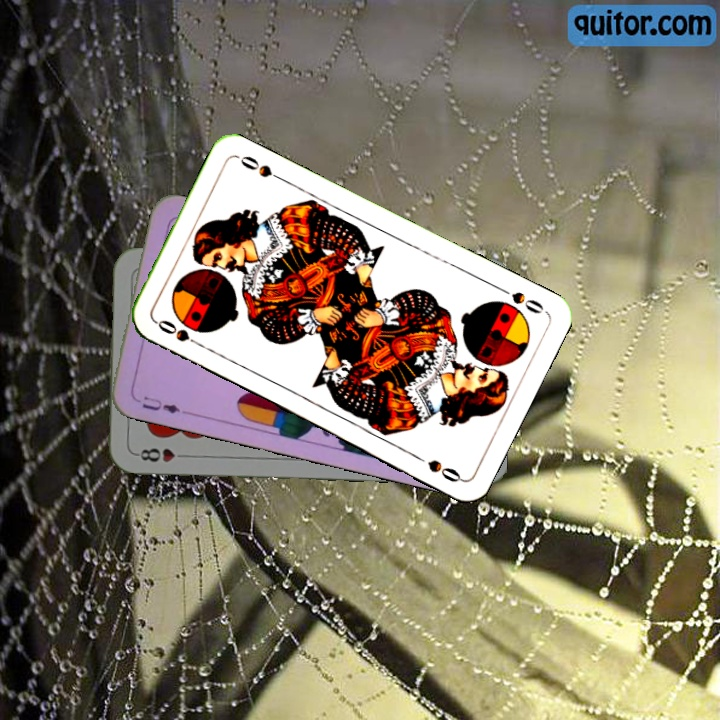EU: (138, 392, 189, 419)
H8: (132, 444, 191, 465)
SO: (152, 315, 206, 351), (493, 282, 548, 316)
